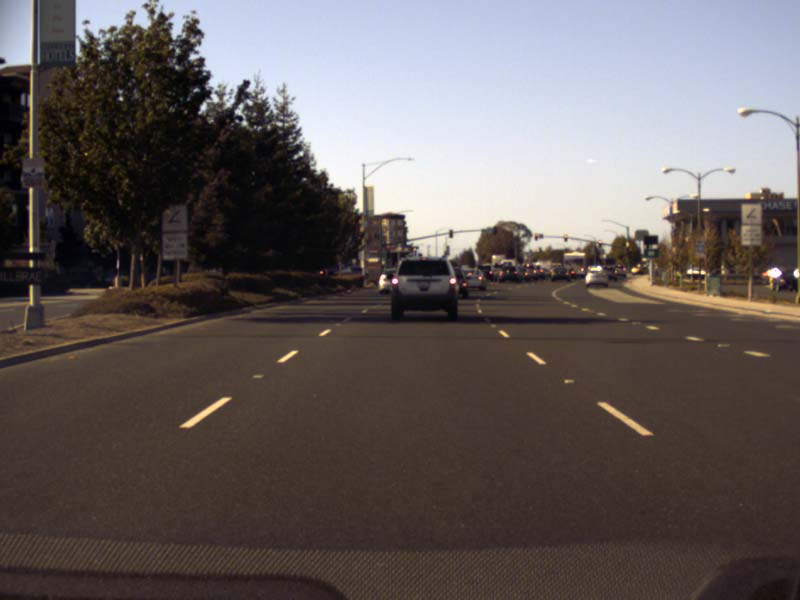Red: (597, 239, 602, 248), (563, 233, 567, 241), (534, 233, 538, 240)
